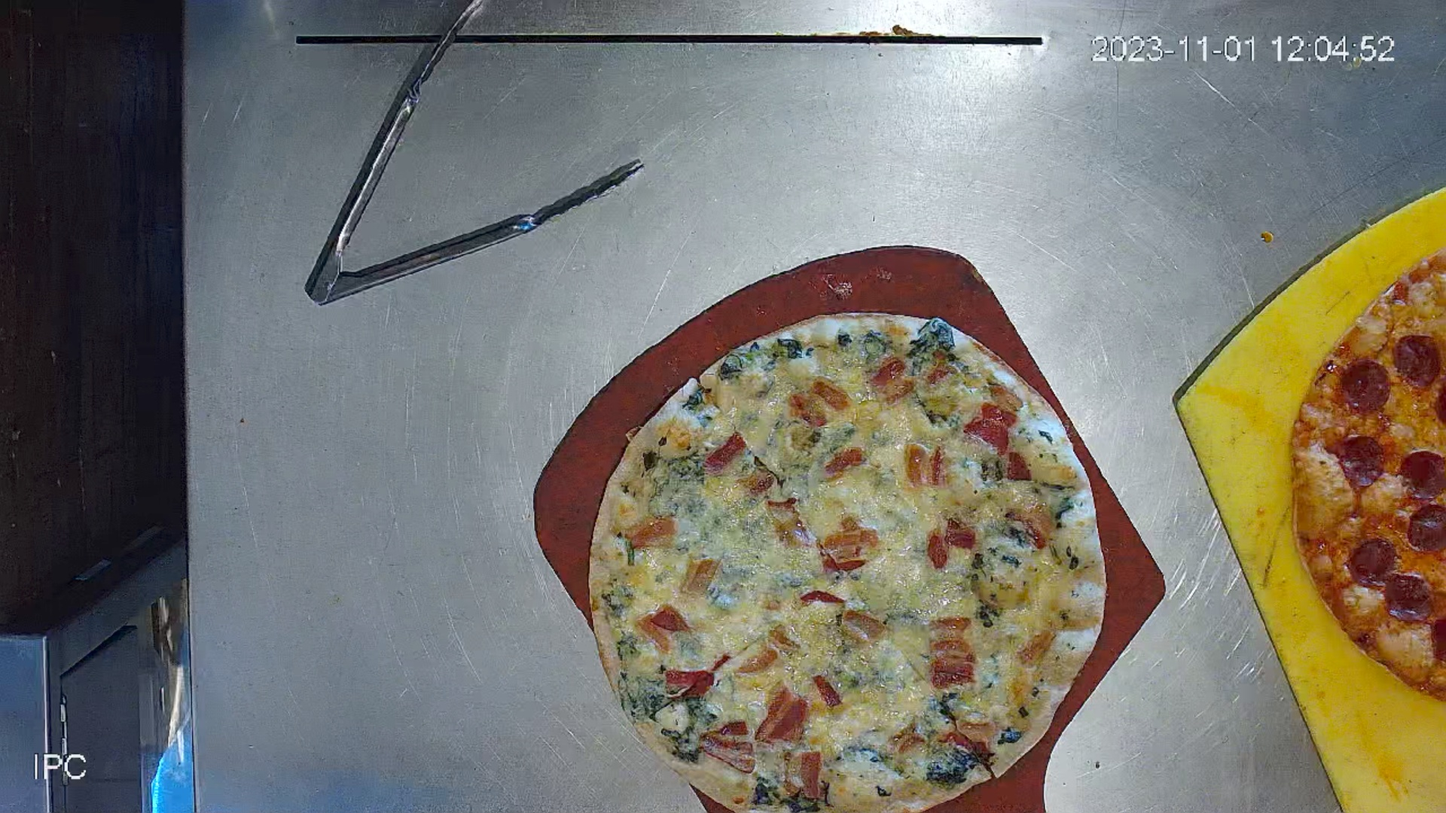pepporoni: (585, 314, 1103, 810)
